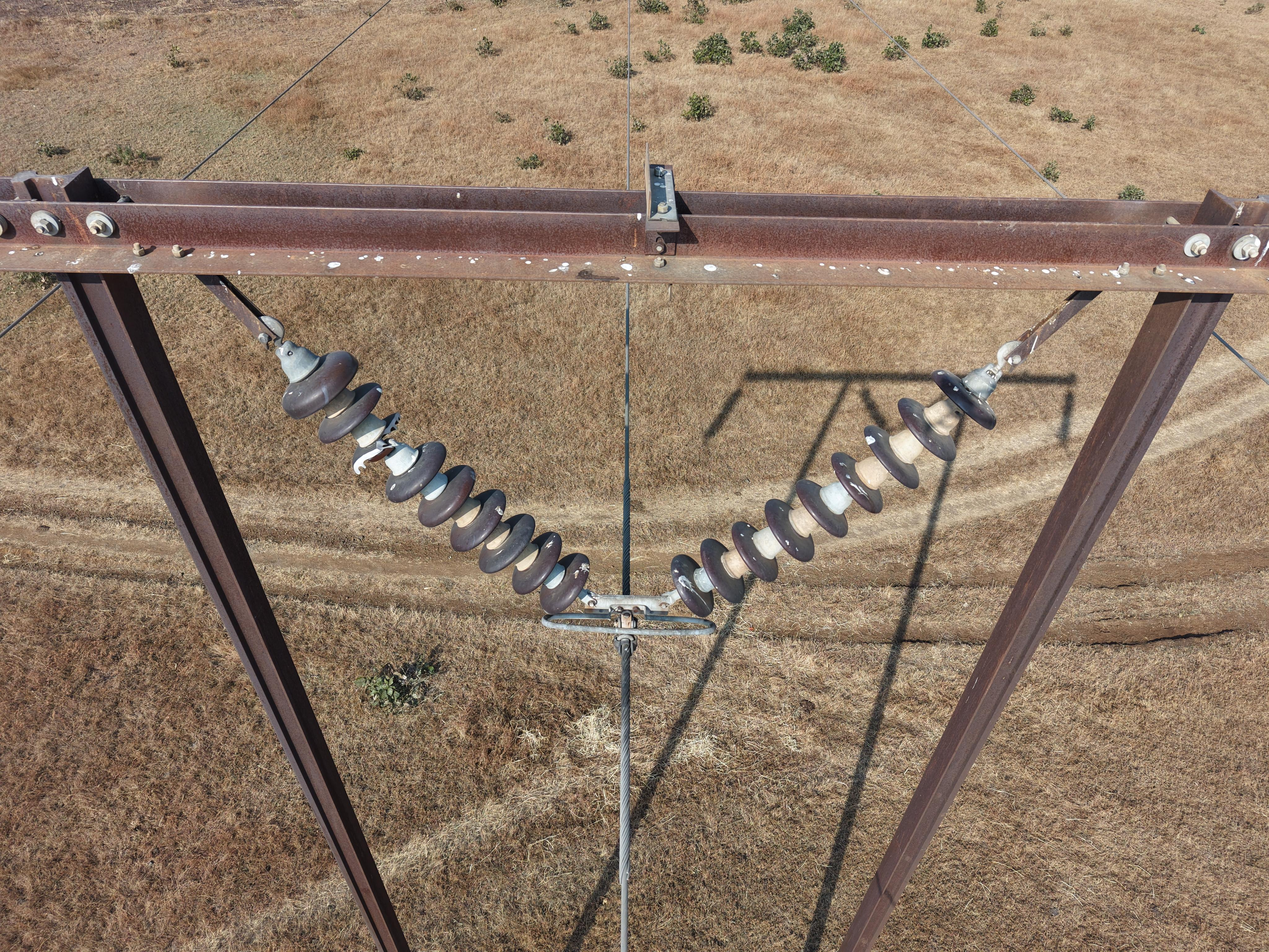broken_insulator: (332, 404, 426, 477)
